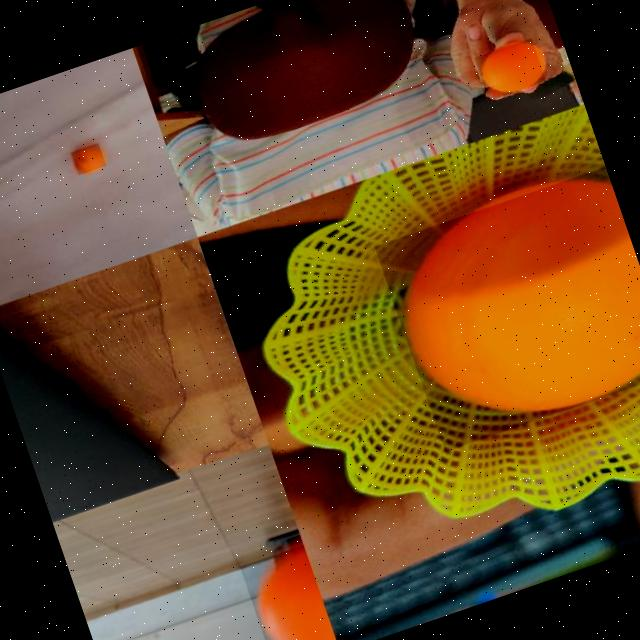ping-pong-ball: (372, 163, 640, 451), (238, 543, 338, 640), (472, 34, 546, 100), (68, 140, 105, 174)
